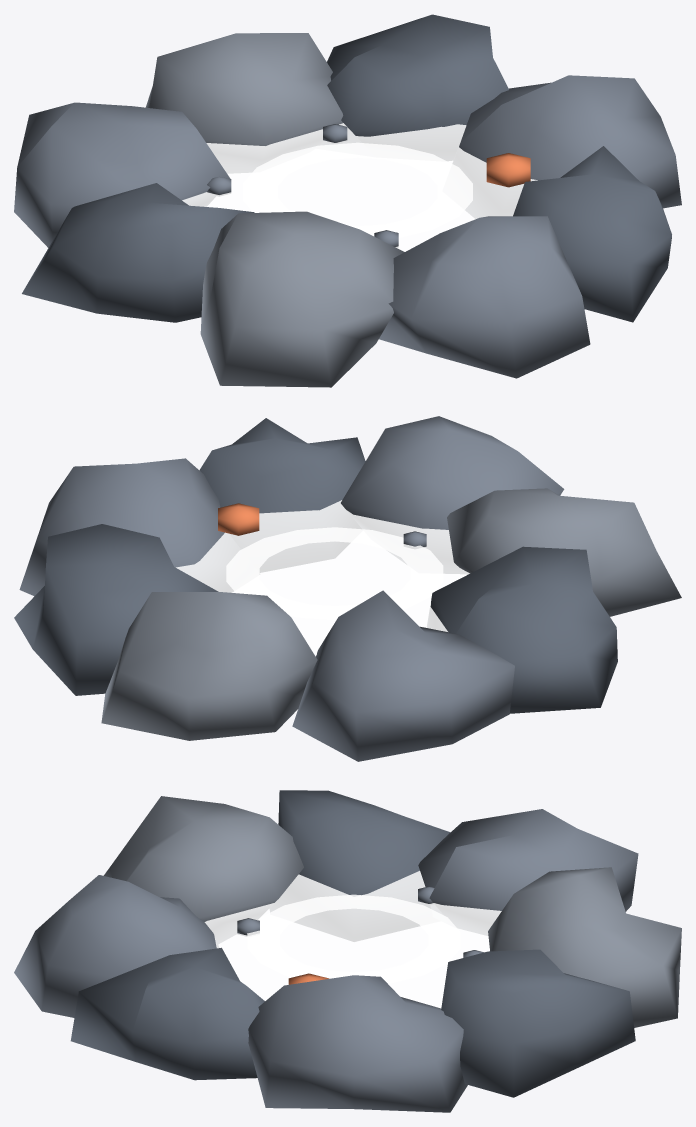
Rendered from xy_beach_tidepool.glb.
3 views of the same model, one above another, from view 1: azimuth 30°, elevation 25°; view 2: azimuth 150°, elevation 25°; view 3: azimuth 270°, elevation 25° (orthographic). The views are drawn at different scales.
Parts seen in each view (by area): view 1: Tidepool; view 2: Tidepool; view 3: Tidepool.
Boxes of the visible parts, left/top/right/bottom form: Tidepool: left=14, top=14, right=681, bottom=387; Tidepool: left=14, top=416, right=681, bottom=761; Tidepool: left=14, top=790, right=681, bottom=1112.
Size of the model in its own units: 4.36 by 0.8085 by 4.44.
